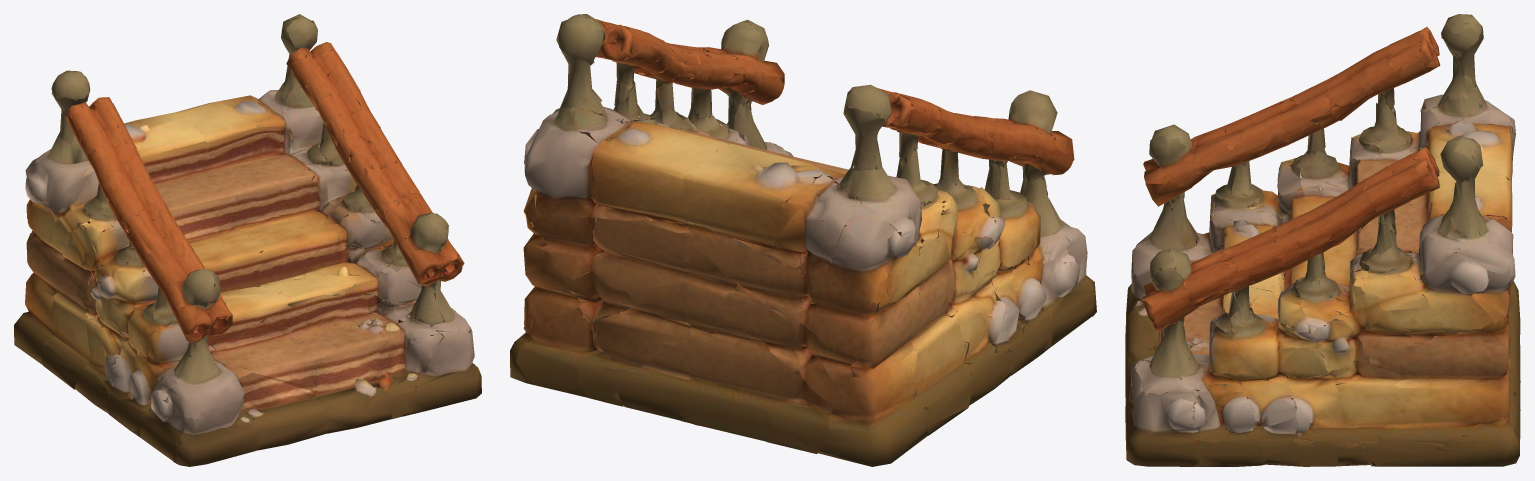
The model's file is terrain-stairs-wafer-ramp.glb.
The picture shows the model from 3 angles, left to right: view 1: azimuth 30°, elevation 25°; view 2: azimuth 150°, elevation 25°; view 3: azimuth 270°, elevation 25°; orthographic projection. The views are drawn at different scales.
Parts seen in each view (by area): view 1: Mesh_0; view 2: Mesh_0; view 3: Mesh_0.
Part boxes in pixels (x1,y1,x2,y2): Mesh_0: [14, 14, 481, 466]; Mesh_0: [510, 14, 1096, 466]; Mesh_0: [1125, 14, 1520, 466].
Bounding box in the file's own units: 1.35 × 1.17 × 1.36.
Materials: 1 (1 with a texture image).
